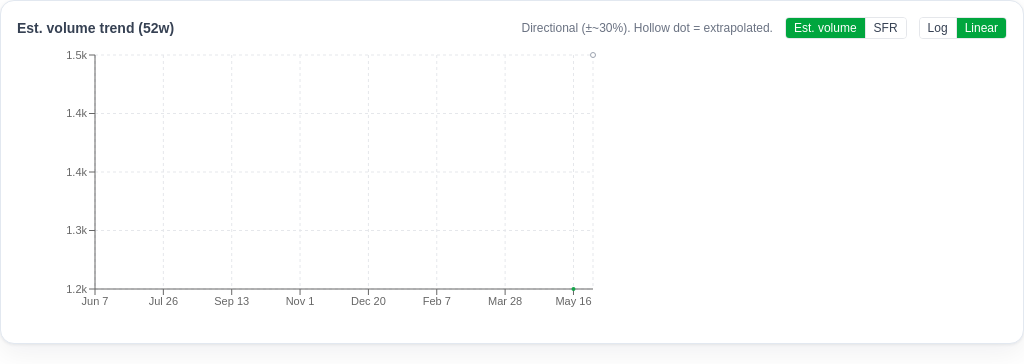
Scenario: TrendChart › toggles to the SFR view, which defaults to LOG
Step 1. Click the button "SFR" → (885, 28), box [865,18,906,38]
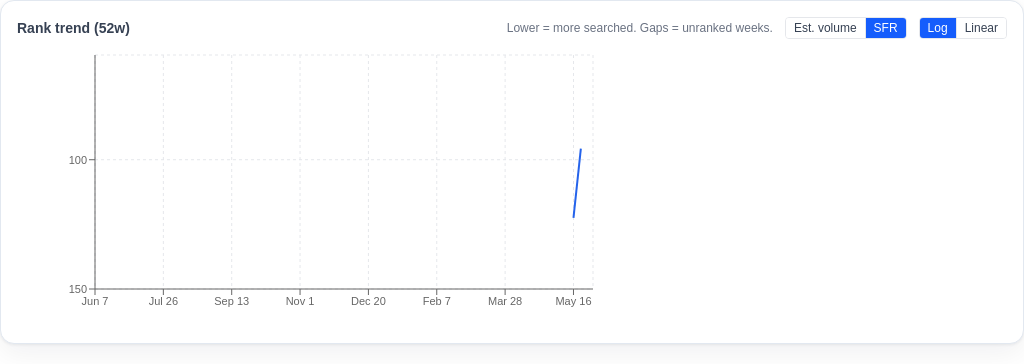
Check: the icon "Jun 7 Jul 26 Sep 13 Nov 1 Dec 20 Feb 7 Mar 28 May 16 100 150" is shown, box [17,47,617,327]
Check: the heading "Rank trend (52w)" is shown, box [17,18,130,38]
